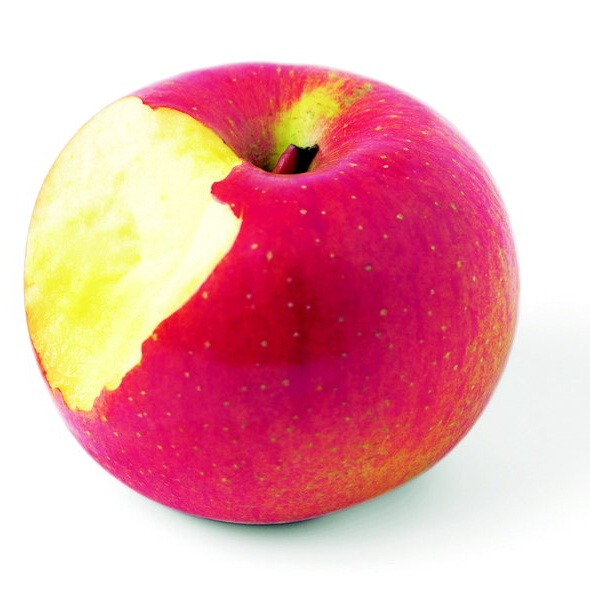apple: (26, 54, 530, 531)
